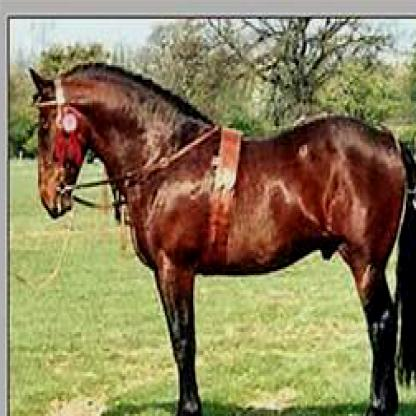horse: (28, 67, 414, 414)
